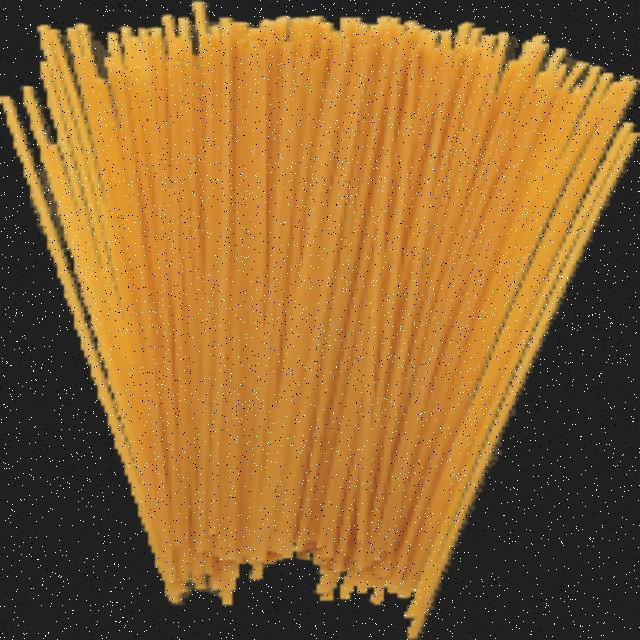Noodles: (22, 27, 602, 621)
